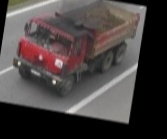truck: (7, 0, 142, 108)
